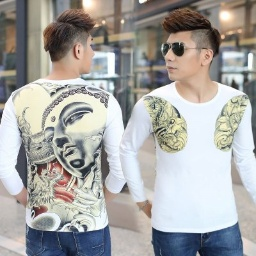face: (162, 9, 221, 82)
